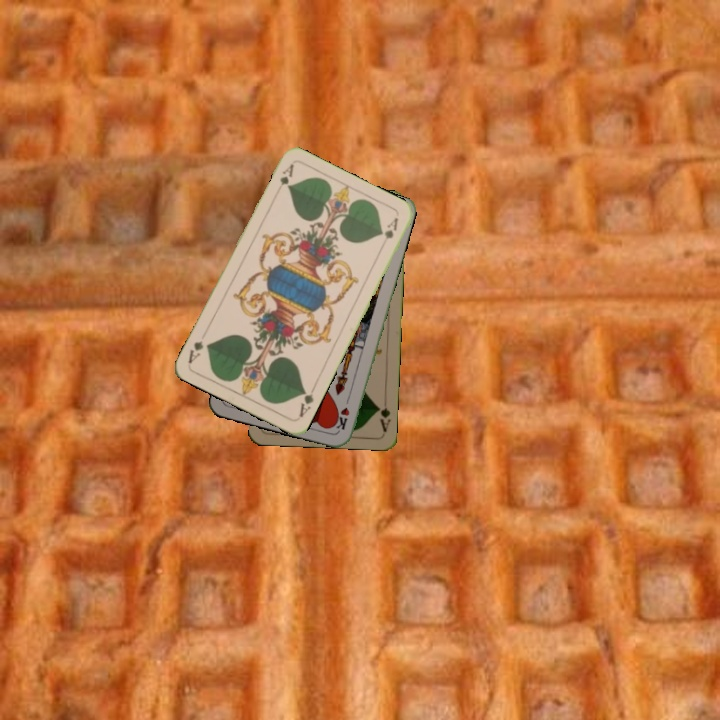GA: (271, 160, 297, 198), (295, 382, 318, 420), (374, 401, 393, 434)
HK: (332, 393, 352, 432)
